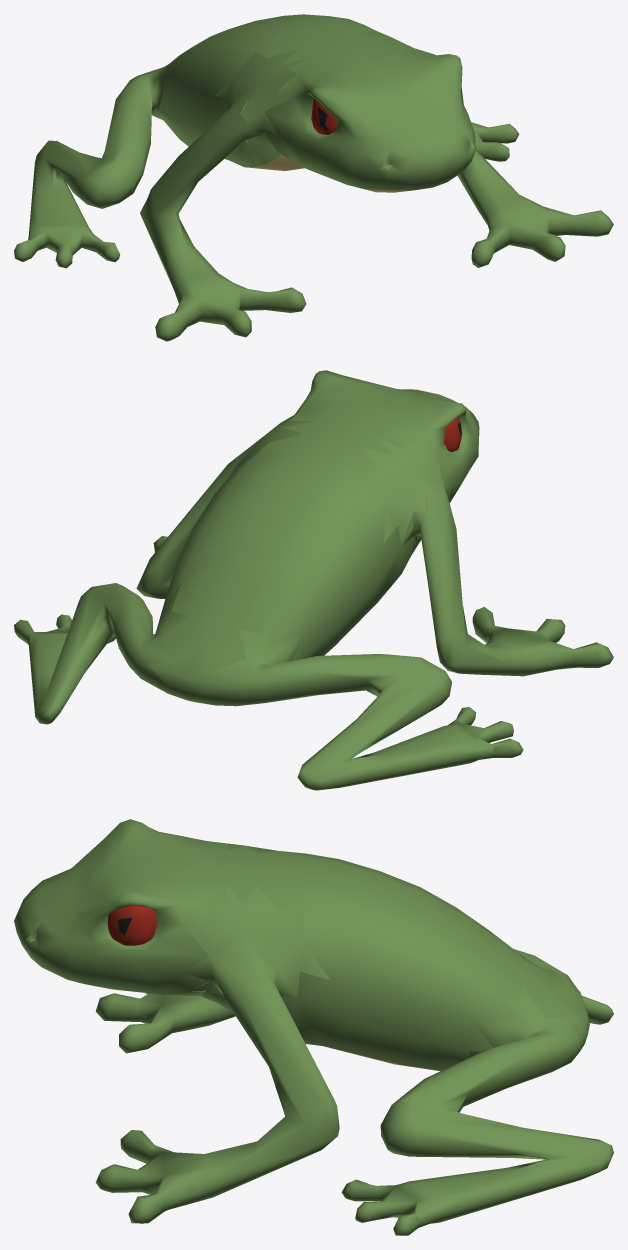
File: kappa.glb
The picture shows the model from 3 angles, top to bottom: view 1: azimuth 30°, elevation 25°; view 2: azimuth 150°, elevation 25°; view 3: azimuth 270°, elevation 25°; orthographic projection. The views are drawn at different scales.
Visible parts, largest first — view 1: Body, LegR, ArmR, ArmL, LegL; view 2: Body, LegR, ArmR, LegL, ArmL; view 3: Body, ArmL, LegL, ArmR, LegR.
Boxes of the visible parts, x1,y1,x2,y2 form: Body: [161, 14, 475, 192]; LegR: [14, 55, 179, 268]; ArmR: [140, 98, 306, 341]; ArmL: [214, 31, 613, 267]; LegL: [240, 99, 519, 161]; Body: [149, 370, 479, 706]; LegR: [206, 606, 523, 790]; ArmR: [401, 490, 613, 676]; LegL: [14, 582, 188, 724]; ArmL: [136, 412, 450, 598]; Body: [14, 819, 589, 1071]; ArmL: [95, 843, 339, 1223]; LegL: [341, 982, 613, 1235]; ArmR: [95, 993, 235, 1053]; LegR: [514, 949, 613, 1027].
Size of the model in its own units: 1.9 by 0.7994 by 1.75.
